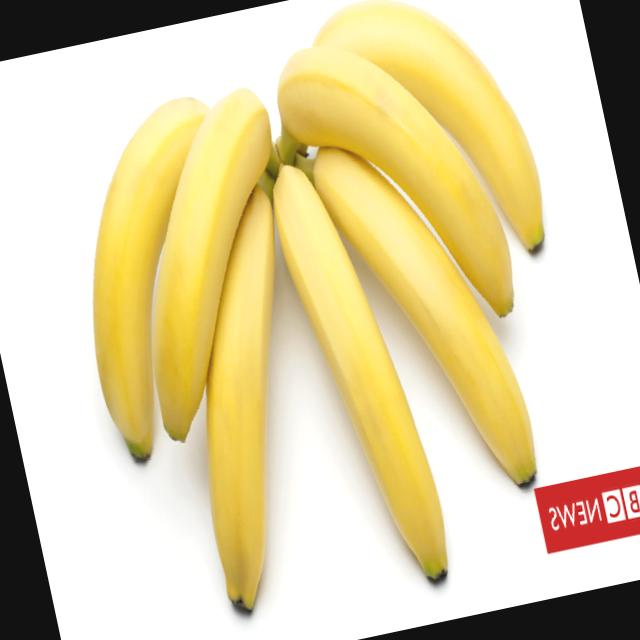banana: (129, 162, 379, 624), (92, 76, 348, 487), (249, 9, 542, 363), (296, 106, 552, 508), (38, 70, 280, 477), (256, 132, 458, 617), (312, 0, 556, 307)
